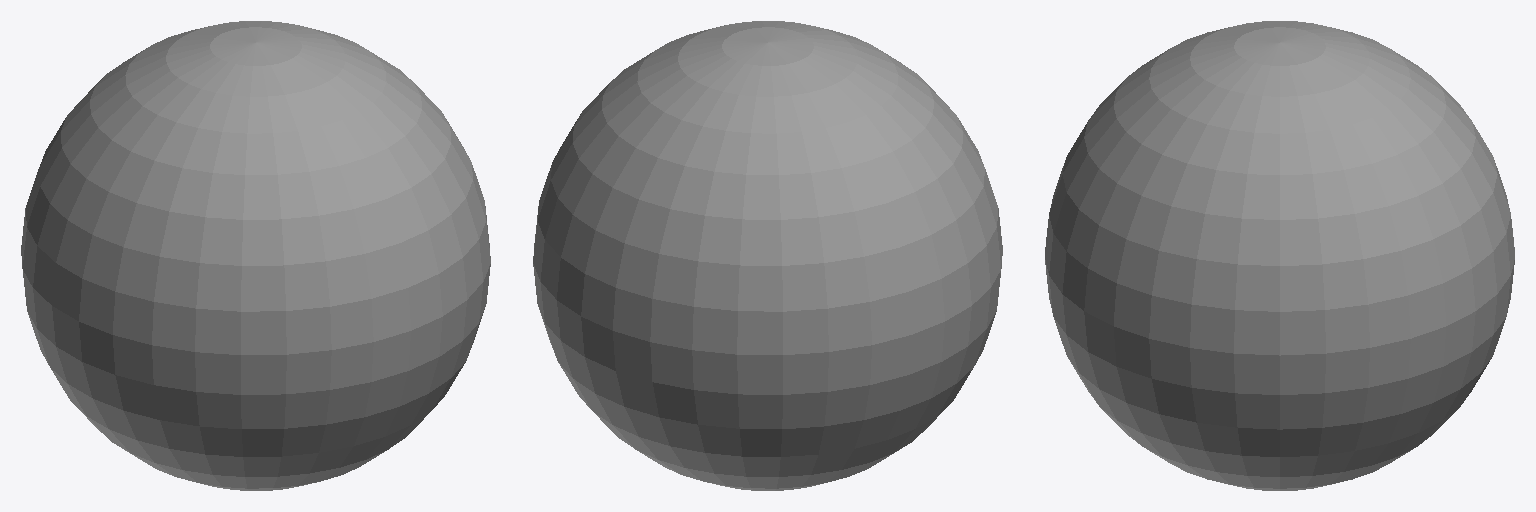
The model's file is playerBall.obj.
The picture shows the model from 3 angles: view 1: azimuth 30°, elevation 25°; view 2: azimuth 150°, elevation 25°; view 3: azimuth 270°, elevation 25°; orthographic projection.
Visible parts, largest first — view 1: Sphere_Sphere.002; view 2: Sphere_Sphere.002; view 3: Sphere_Sphere.002.
Boxes of the visible parts, x1,y1,x2,y2 form: Sphere_Sphere.002: [21, 21, 490, 490]; Sphere_Sphere.002: [533, 21, 1002, 490]; Sphere_Sphere.002: [1045, 21, 1514, 490].
Size of the model in its own units: 0.5 by 0.5 by 0.5.